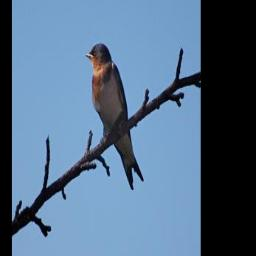Swallow: (86, 42, 144, 190)
